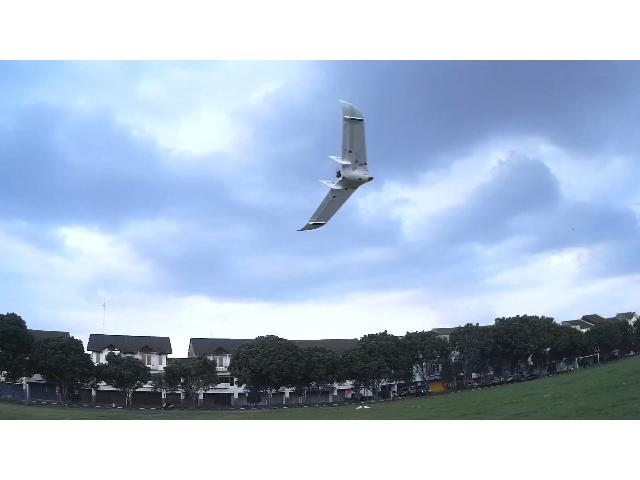Anti-Drone: (296, 100, 374, 230)
